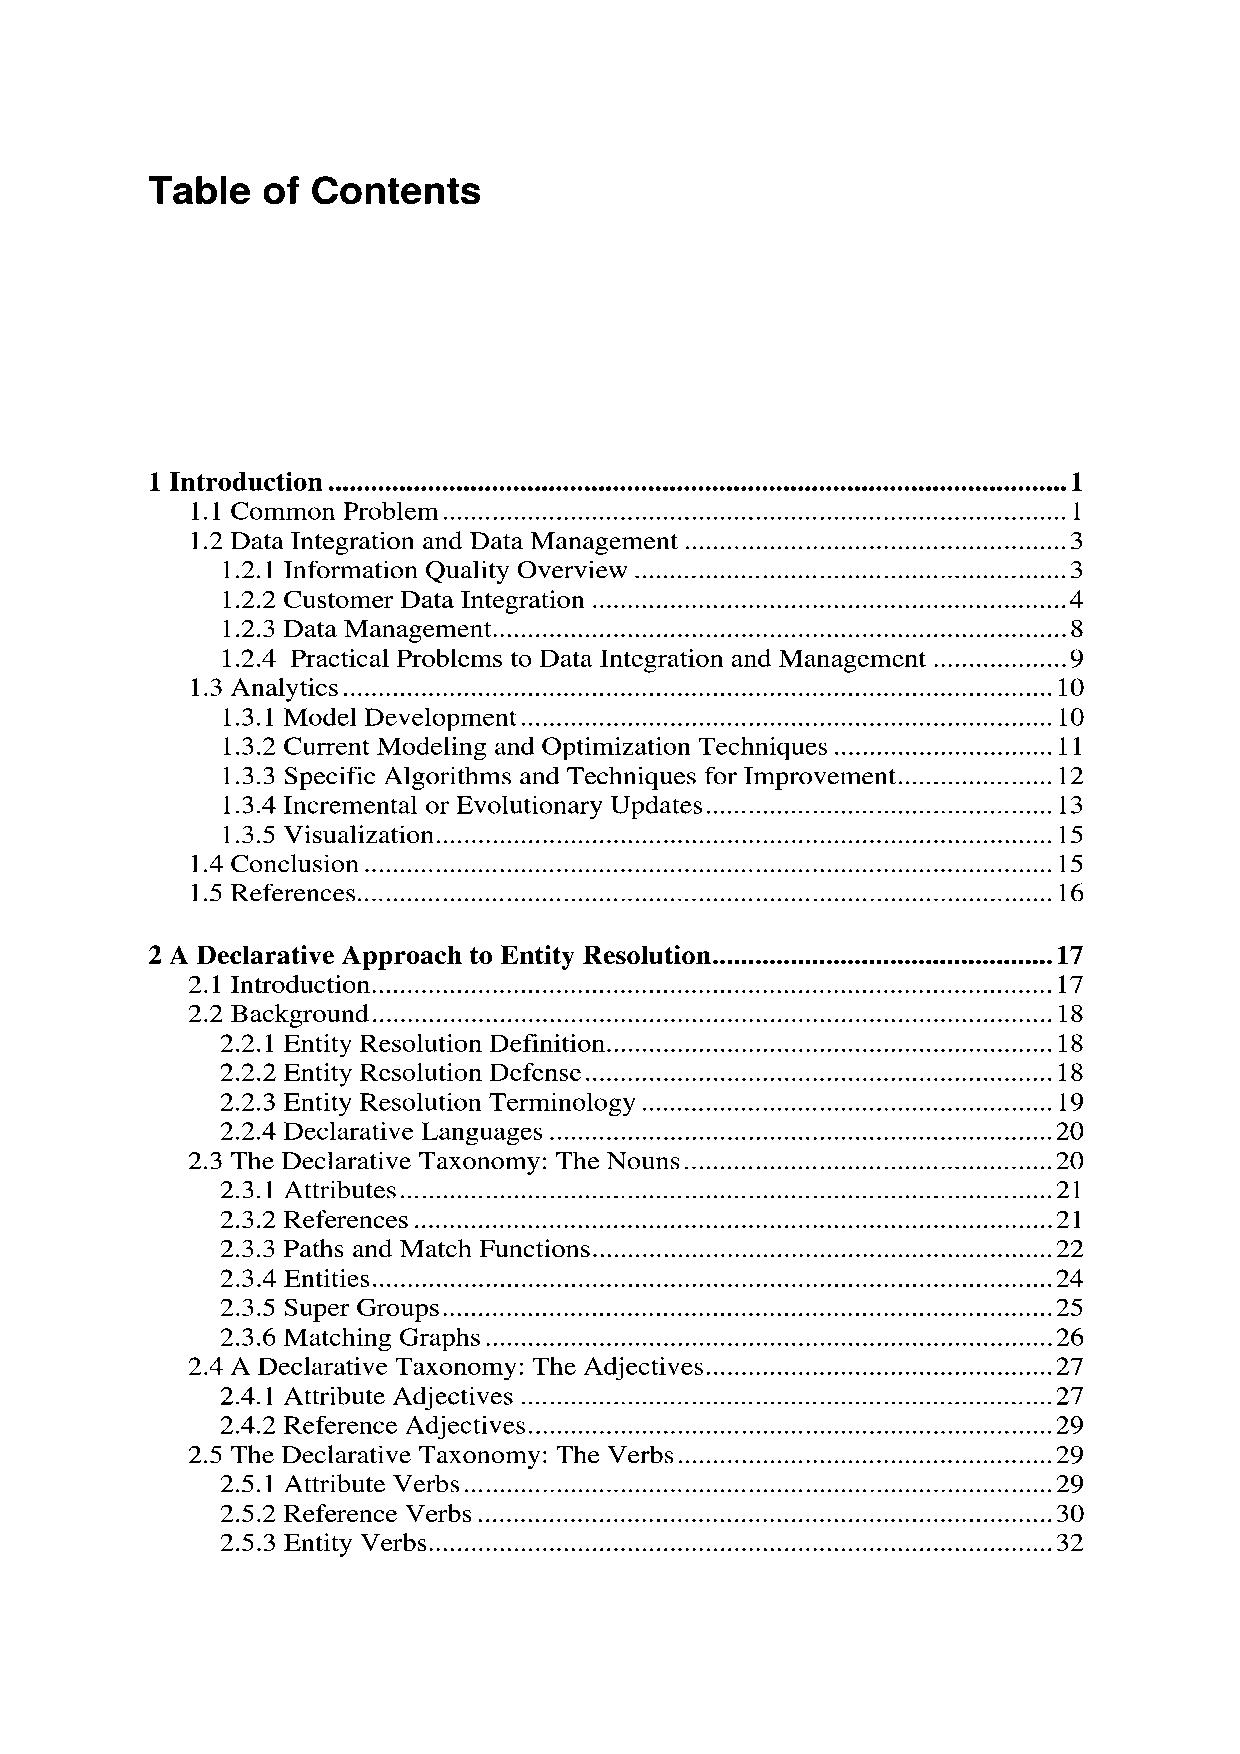TOC_chapter: (217, 646, 929, 670), (221, 762, 895, 788), (144, 938, 711, 968), (220, 734, 827, 757), (183, 1353, 701, 1378), (193, 527, 683, 552), (187, 1149, 680, 1172), (187, 1441, 676, 1464), (220, 1088, 636, 1115), (224, 794, 705, 816), (220, 1235, 588, 1260), (216, 556, 625, 578), (219, 1031, 603, 1053), (217, 586, 586, 609), (217, 1062, 582, 1084), (217, 1412, 525, 1437), (216, 703, 518, 727), (221, 1121, 539, 1143), (185, 497, 443, 523), (217, 1469, 468, 1495), (216, 1384, 511, 1405), (217, 1325, 480, 1347), (219, 1503, 474, 1525), (221, 619, 493, 639), (220, 1292, 437, 1317), (183, 969, 376, 996), (219, 821, 437, 844), (217, 1205, 411, 1231), (220, 1531, 428, 1554), (146, 466, 322, 491), (185, 1002, 368, 1027), (191, 880, 361, 905), (187, 851, 362, 874), (213, 1177, 395, 1198), (216, 1264, 366, 1290), (191, 674, 341, 698)
TOC_pagenumber: (1056, 939, 1084, 968), (1057, 1149, 1088, 1173), (1057, 1236, 1088, 1260), (1055, 821, 1086, 845), (1056, 852, 1087, 876), (1056, 1205, 1084, 1231), (1059, 880, 1088, 905), (1059, 1088, 1086, 1114), (1057, 674, 1083, 699), (1057, 1031, 1084, 1055), (1056, 1474, 1084, 1496), (1057, 1382, 1083, 1406), (1056, 1444, 1082, 1468), (1057, 734, 1083, 758), (1055, 1414, 1084, 1435), (1059, 707, 1088, 727), (1057, 1266, 1083, 1288), (1057, 1062, 1084, 1083), (1057, 1325, 1082, 1347), (1057, 1353, 1082, 1376), (1059, 1121, 1084, 1142), (1057, 1503, 1083, 1525), (1057, 973, 1084, 993), (1057, 1530, 1082, 1551), (1056, 1178, 1082, 1198), (1059, 1001, 1082, 1023), (1057, 1296, 1082, 1317), (1057, 768, 1083, 786), (1059, 794, 1082, 815), (1067, 495, 1084, 519), (1067, 650, 1087, 670), (1068, 586, 1084, 609), (1071, 464, 1084, 491), (1070, 525, 1084, 548), (1070, 615, 1084, 637), (1070, 560, 1083, 581)
chapter: (136, 164, 493, 209)
